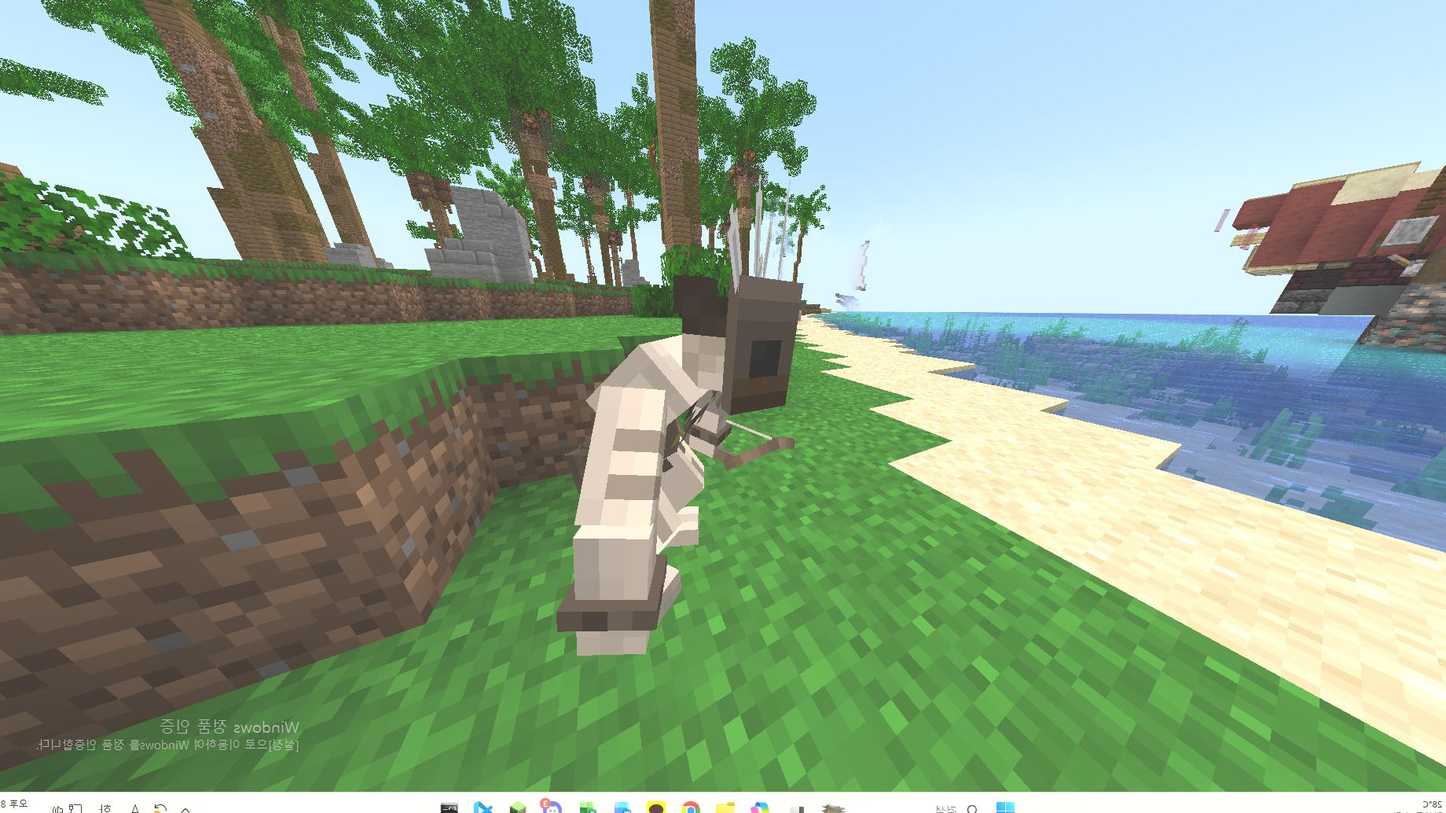bow_indian: (490, 186, 857, 671)
